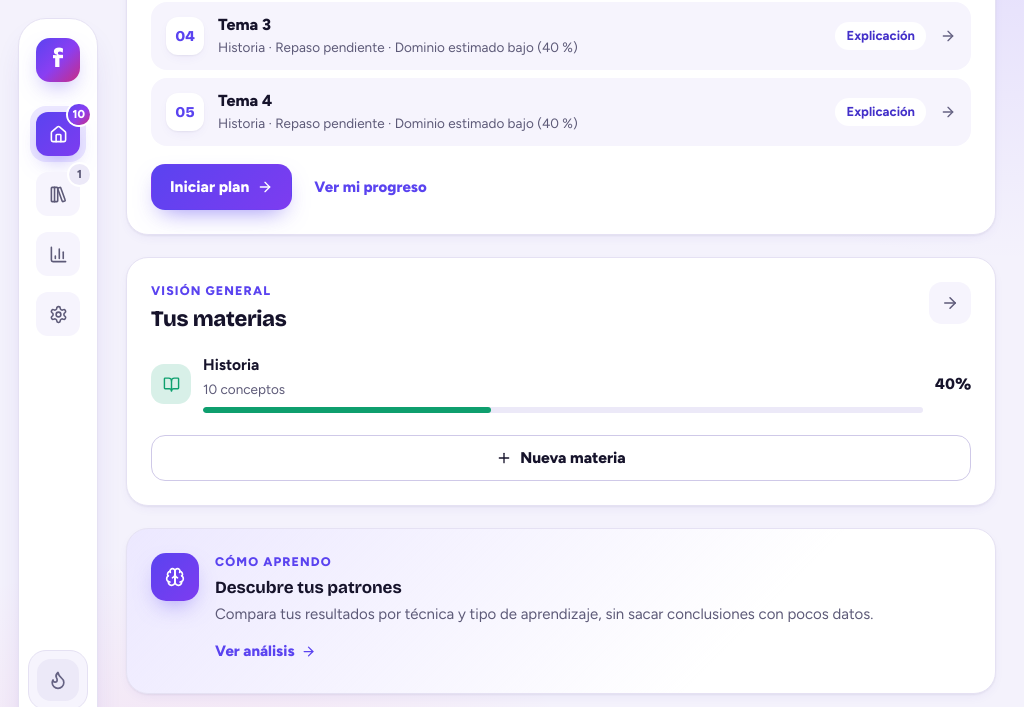
Test: materia › permite repasar la materia entera, más allá del tamaño normal de sesión
Later steps or results of the test are not shown.
(page scrolled)
Click the button with class "subject-mini" at (231, 365), box [141,346,981,423]
(page scrolled)
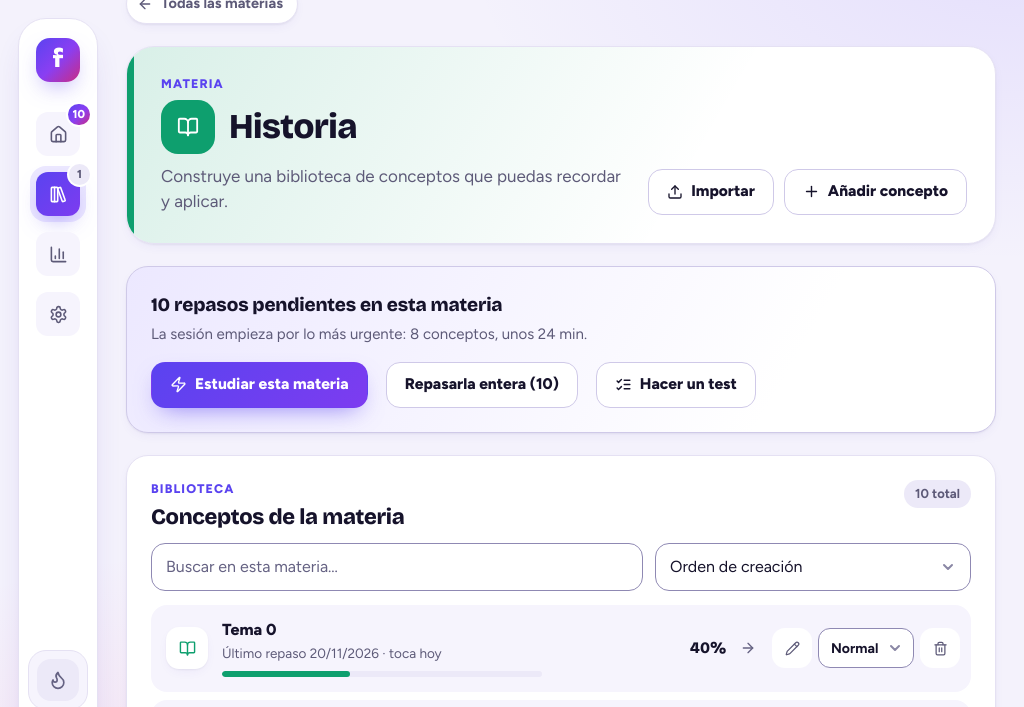
Expected: the text "10 repasos pendientes en esta materia" is shown, [151,293,502,316]
Expected: the text "toca hoy" is shown, [379,645,442,661]
Click the button "Estudiar esta materia" at (259, 385), box [151,362,368,408]
(page scrolled)
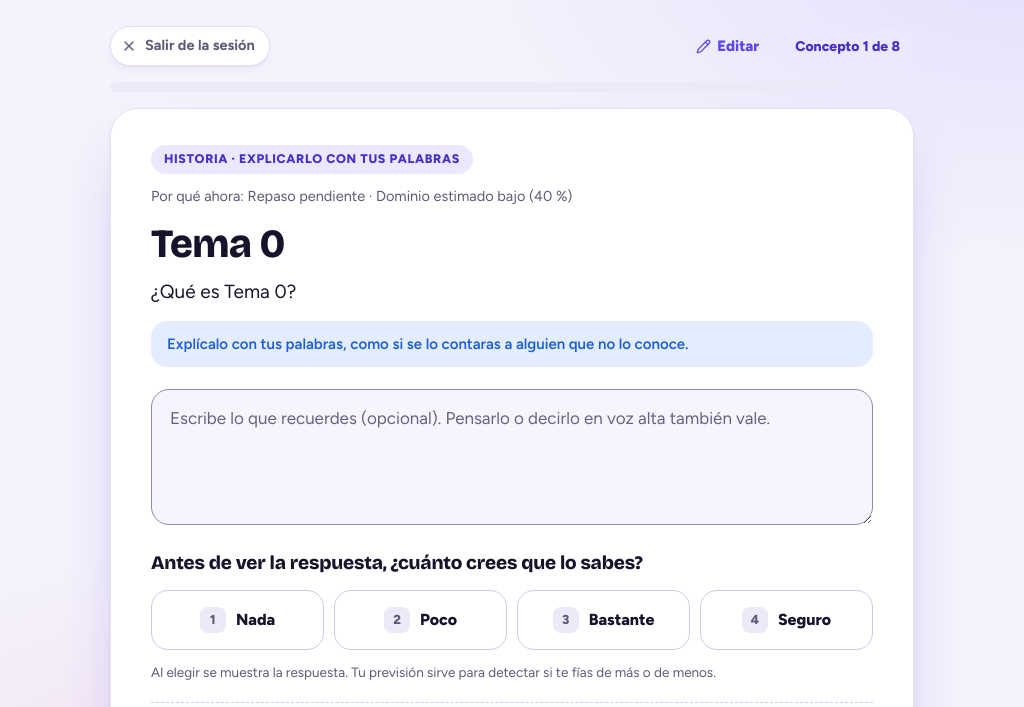
Expected: the text "Concepto 1 de 8" is shown, [781,30,914,62]
